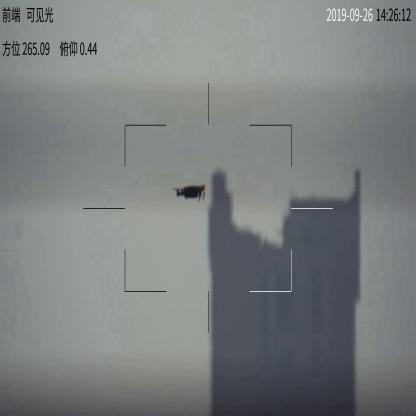uav: (163, 180, 208, 204)
